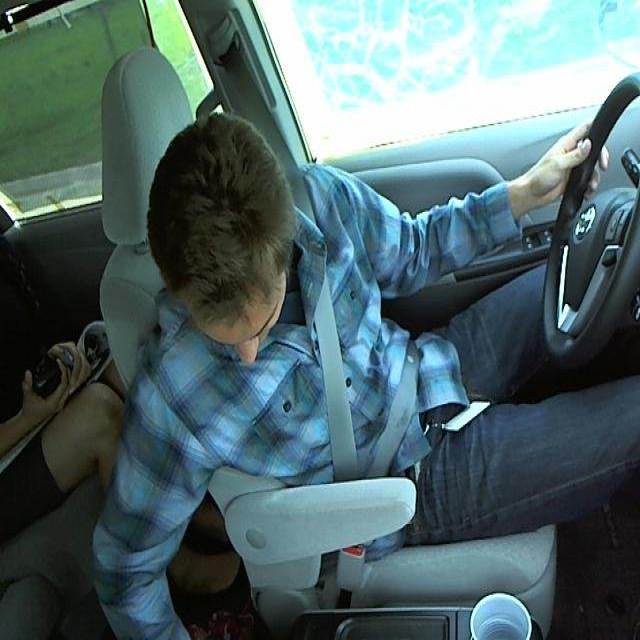seatbelt: (297, 259, 427, 473)
